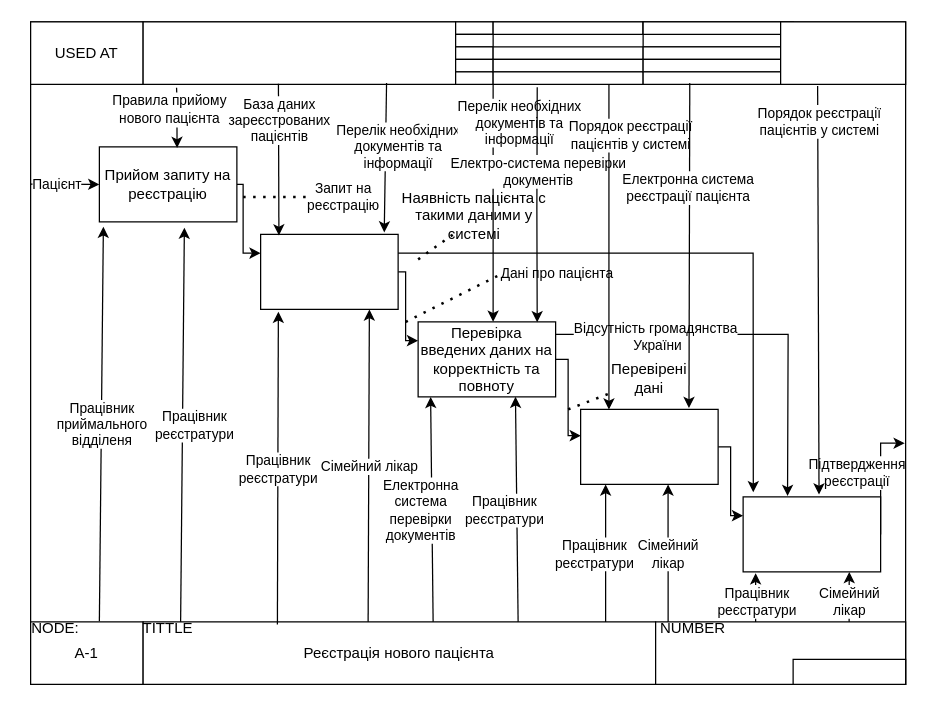
The diagram is 938 pixels wide and 706 high, and some of its shapes have lost their labels. The centre of each missing label's shape, as x and y in pixels:
Прийом даних про пацієнта: pixel 328 271
Підтвердження або відмова у реєстрації пацієнта: pixel 811 534
Створення та заповнення картки пацієнта у системі: pixel 648 446
